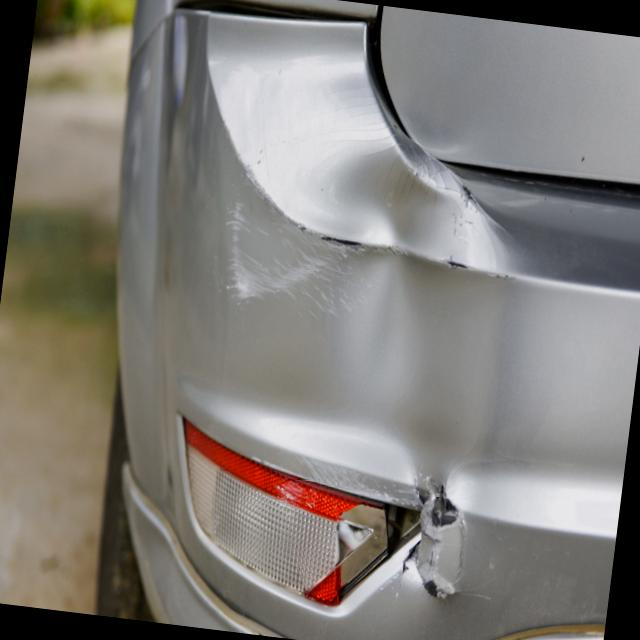Cabossage: (203, 74, 519, 475), (113, 486, 205, 626)
Dechirure: (406, 459, 469, 611)
Phare abime: (314, 492, 454, 640)
Rayure: (197, 205, 362, 344)
